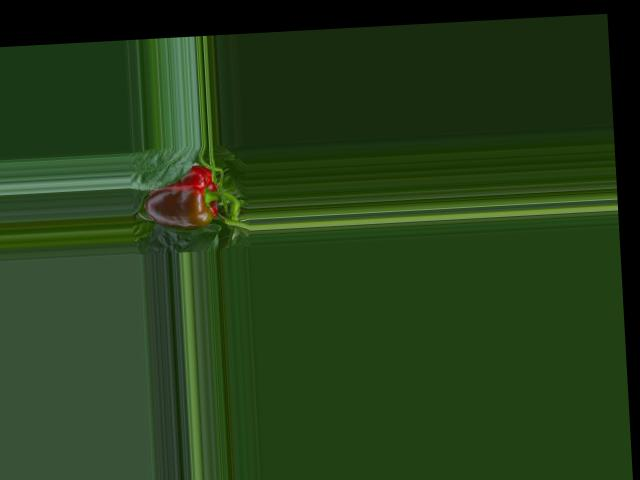bell_pepper: (138, 161, 229, 239)
